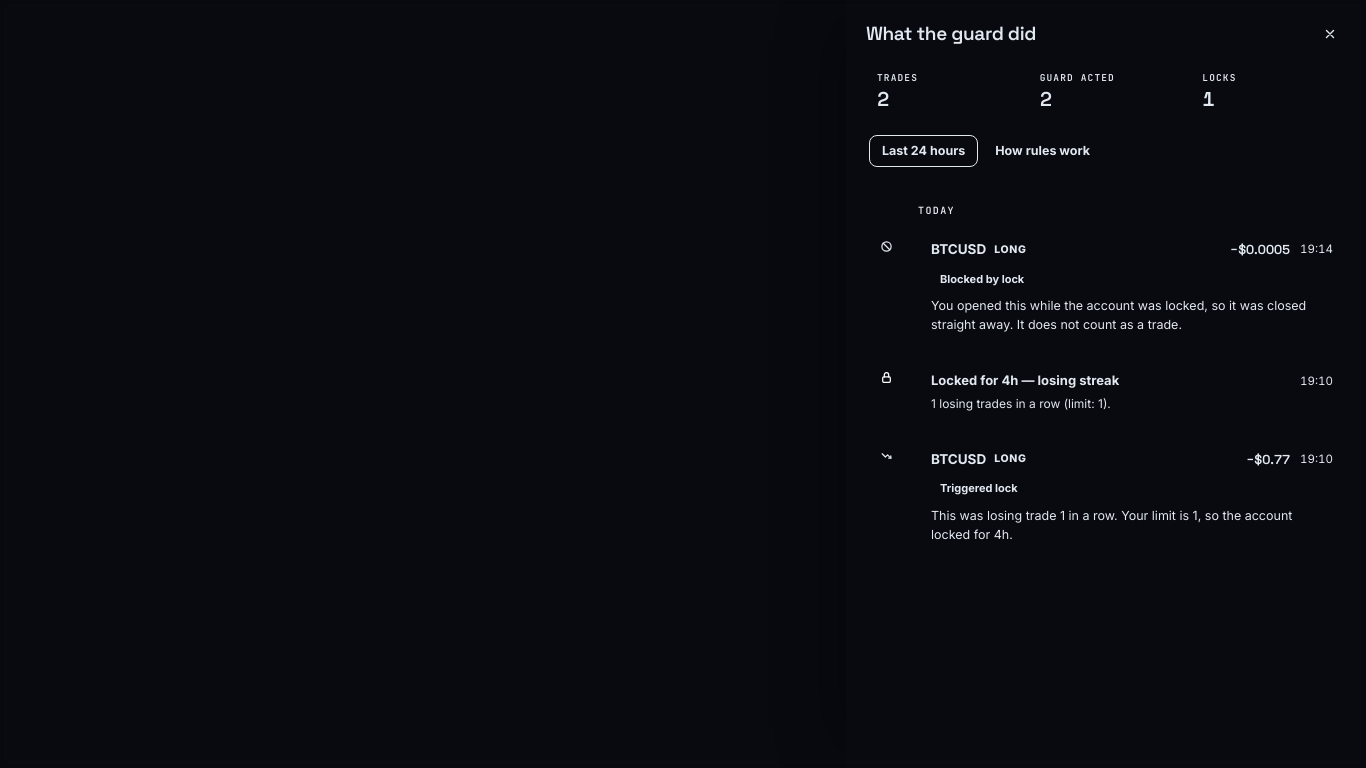
it: ActivityDrawer › explains the rules that are on, with the account’s own numbers
Click the tab "How rules work".
click(1043, 151)  # box [982,134,1103,167]
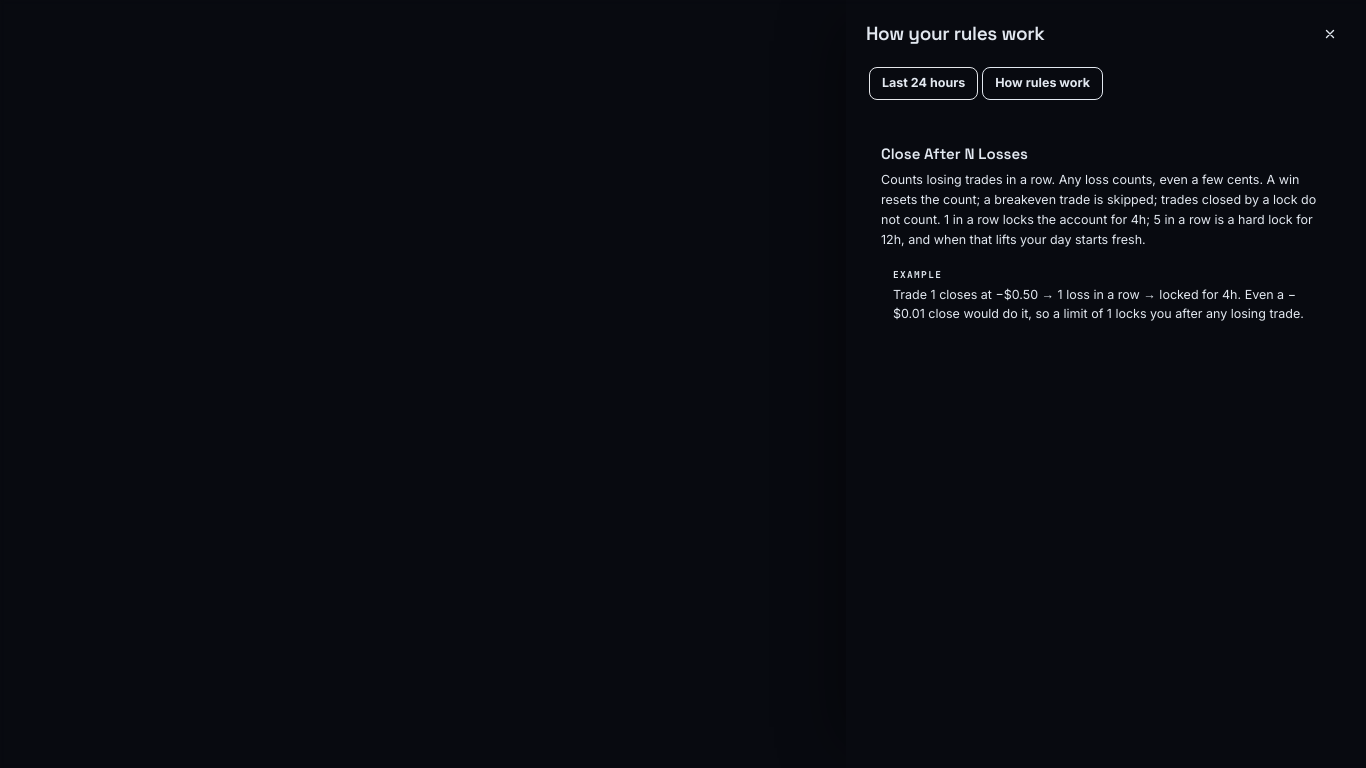
expect the text "locks you after any losing trade" is shown: met, box [893,287,1304,321]
